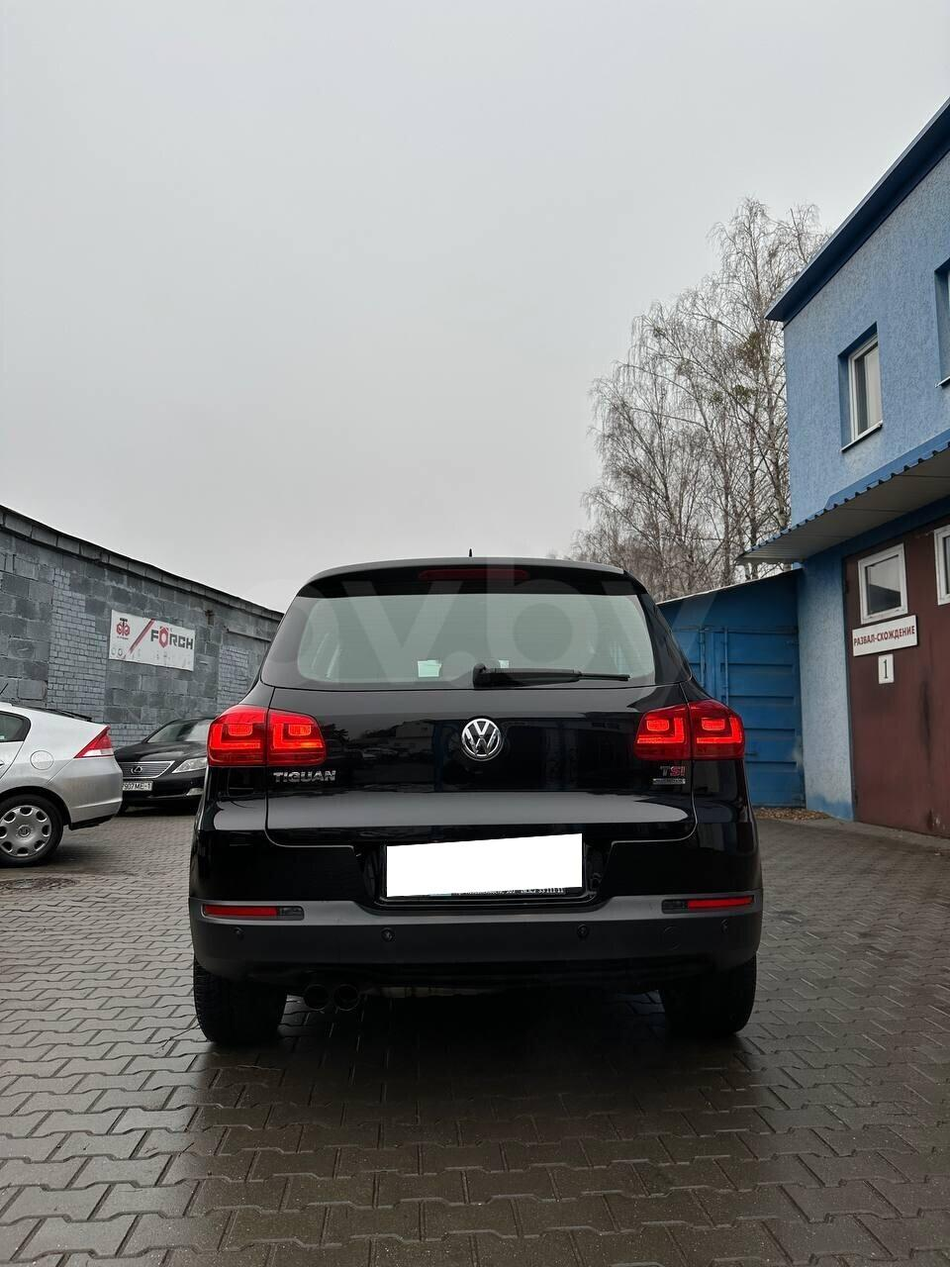Tiguan_2011-2018: (188, 549, 770, 1051)
